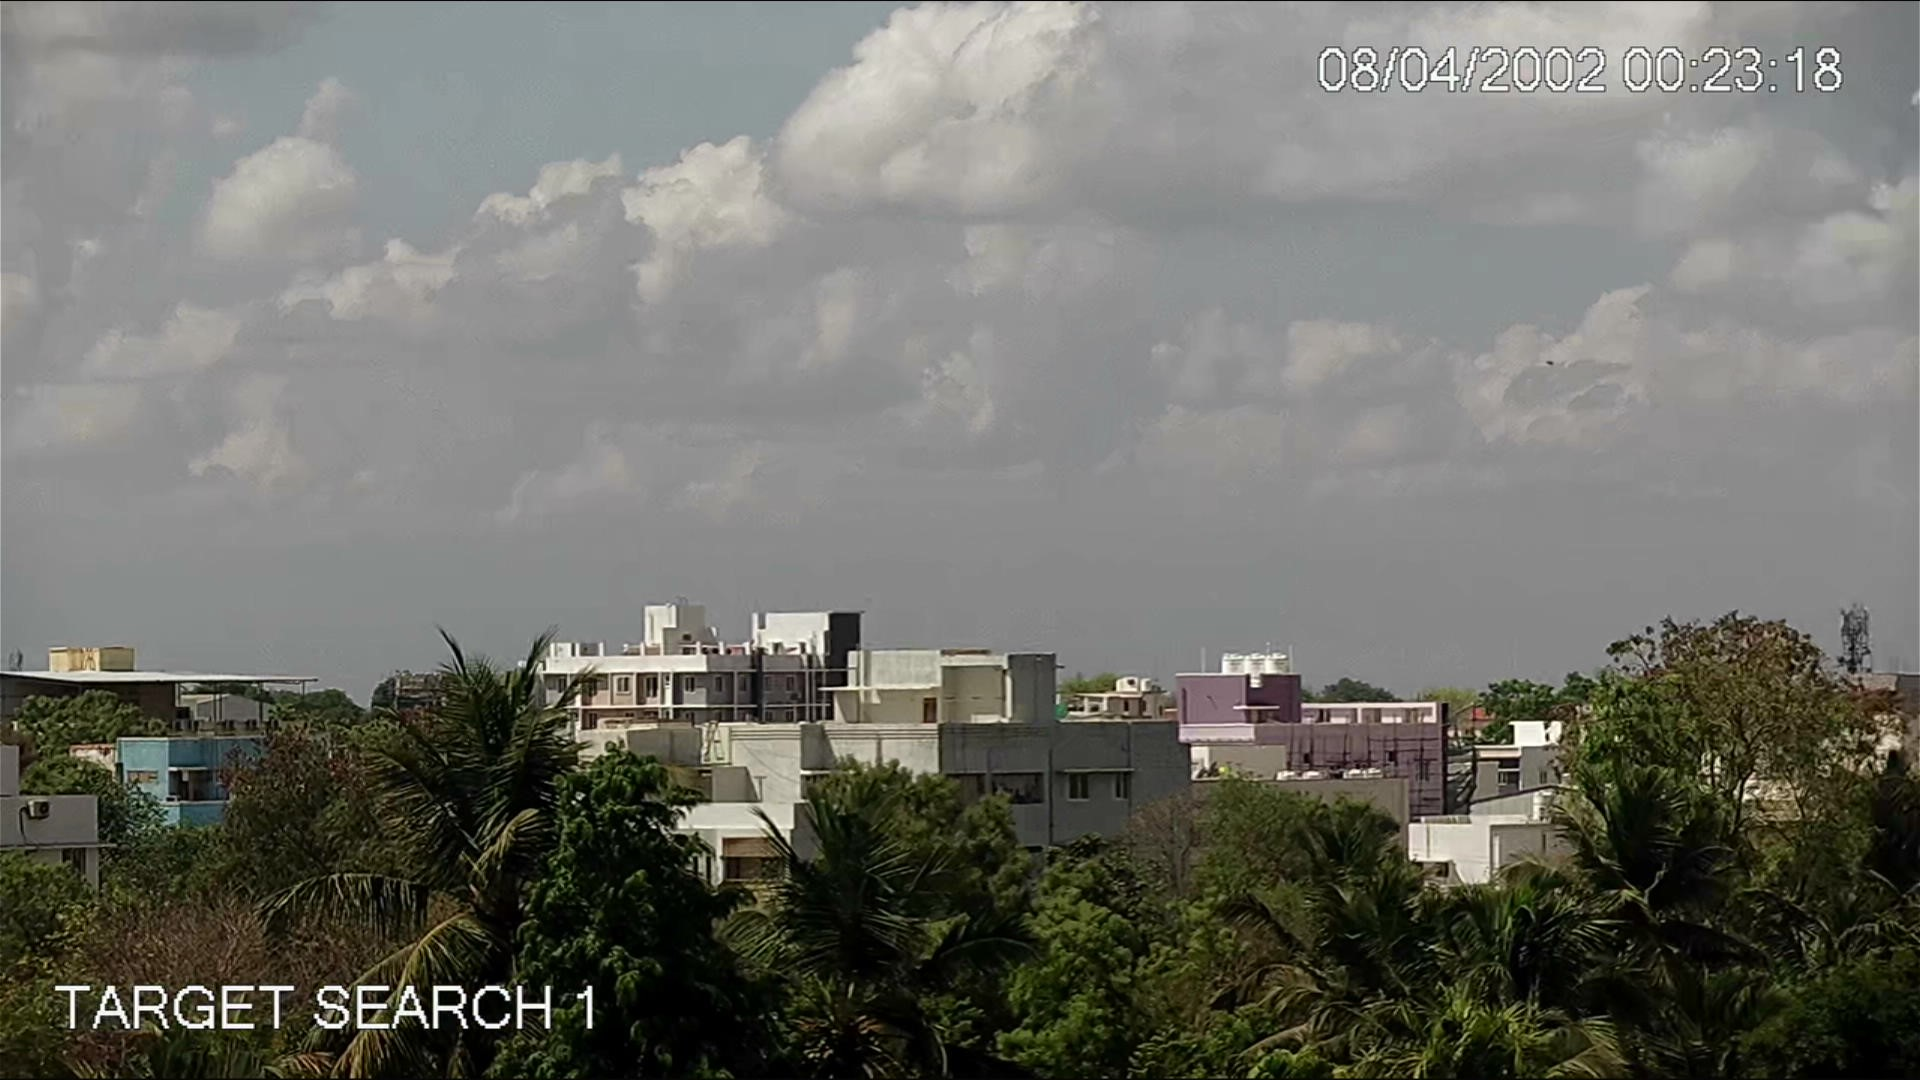SU_30: (1536, 355, 1555, 371)
